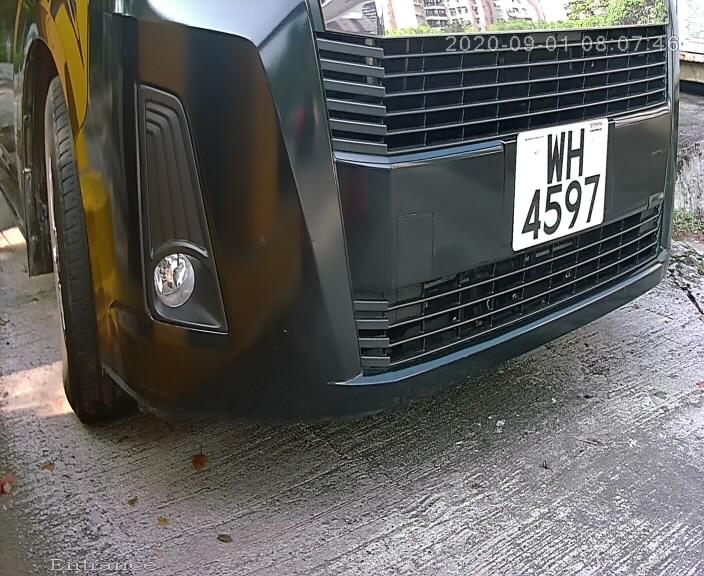Car: (60, 1, 686, 453)
License Plate: (507, 109, 617, 255)
